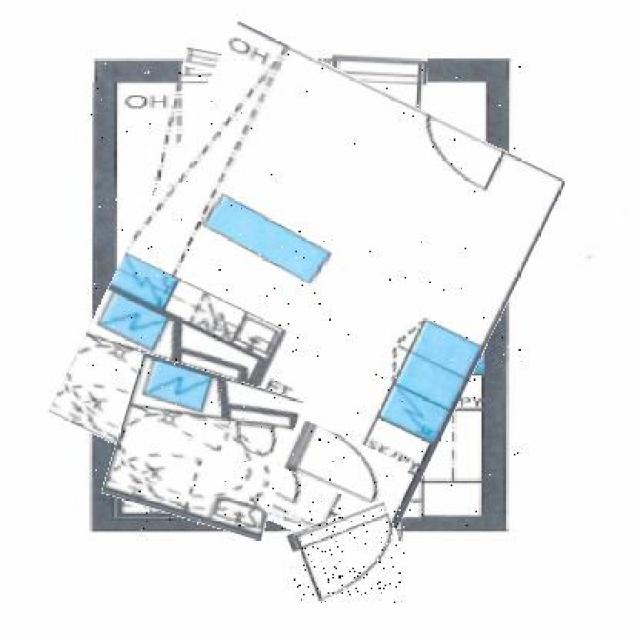door: (292, 506, 405, 603), (282, 429, 408, 503), (330, 54, 428, 129)
window: (183, 56, 326, 86)
zone: (86, 51, 528, 543), (111, 363, 294, 531)
